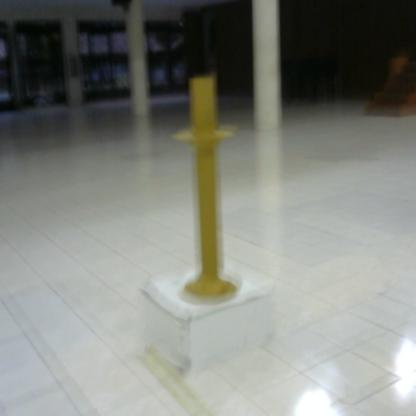pole: (169, 65, 249, 310)
